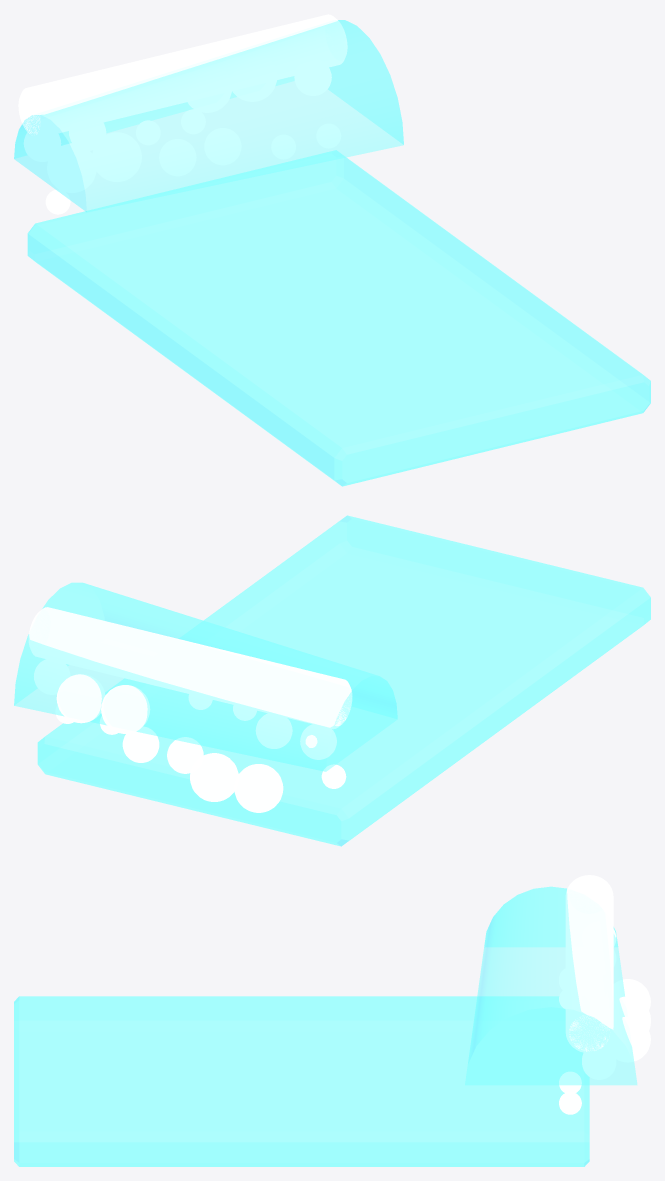
Rendered from vfx_lanewash.glb.
3 views of the same model, one above another, from view 1: azimuth 30°, elevation 25°; view 2: azimuth 150°, elevation 25°; view 3: azimuth 270°, elevation 25° (orthographic). The views are drawn at different scales.
Visible parts, largest first — view 1: wash_sheet, wash_crest, wash_lip, wash_foam2, wash_foam8, wash_foam10, wash_foam4, wash_foam7, wash_foam13, wash_foam1; view 2: wash_sheet, wash_crest, wash_lip, wash_foam8, wash_foam11, wash_foam5, wash_foam2, wash_foam7, wash_foam1, wash_foam4, wash_foam10, wash_foam13 (+1 smaller); view 3: wash_sheet, wash_crest, wash_lip, wash_foam5, wash_foam13, wash_foam11, wash_foam8, wash_foam6.
Boxes of the visible parts, left/top/right/bottom form: wash_sheet: left=27, top=150, right=650, bottom=486; wash_crest: left=14, top=20, right=403, bottom=212; wash_lip: left=18, top=14, right=347, bottom=138; wash_foam2: left=92, top=132, right=141, bottom=181; wash_foam8: left=47, top=143, right=96, bottom=192; wash_foam10: left=159, top=139, right=196, bottom=176; wash_foam4: left=204, top=128, right=241, bottom=165; wash_foam7: left=23, top=132, right=61, bottom=161; wash_foam13: left=294, top=67, right=331, bottom=95; wash_foam1: left=69, top=123, right=106, bottom=150; wash_sheet: left=37, top=515, right=650, bottom=846; wash_crest: left=14, top=582, right=397, bottom=771; wash_lip: left=28, top=607, right=352, bottom=729; wash_foam8: left=234, top=764, right=283, bottom=812; wash_foam11: left=101, top=685, right=150, bottom=733; wash_foam5: left=56, top=674, right=105, bottom=723; wash_foam2: left=190, top=753, right=238, bottom=801; wash_foam7: left=300, top=724, right=336, bottom=759; wash_foam1: left=255, top=713, right=292, bottom=748; wash_foam4: left=122, top=726, right=159, bottom=762; wash_foam10: left=167, top=737, right=203, bottom=773; wash_foam13: left=34, top=659, right=70, bottom=694; wash_sheet: left=14, top=996, right=589, bottom=1166; wash_crest: left=465, top=886, right=637, bottom=1085; wash_lip: left=565, top=875, right=613, bottom=1053; wash_foam5: left=608, top=1016, right=650, bottom=1062; wash_foam13: left=582, top=1045, right=616, bottom=1076; wash_foam11: left=613, top=996, right=650, bottom=1028; wash_foam8: left=613, top=979, right=650, bottom=1009; wash_foam6: left=559, top=1091, right=581, bottom=1114.
Size of what is drawn, in the model's own units: 3.51 by 1.85 by 6.64.
